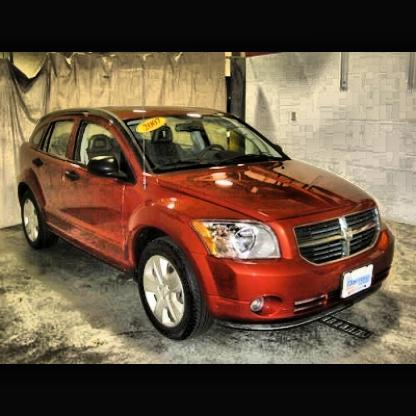Dodge Caliber Wagon 2007: (17, 107, 395, 344)
